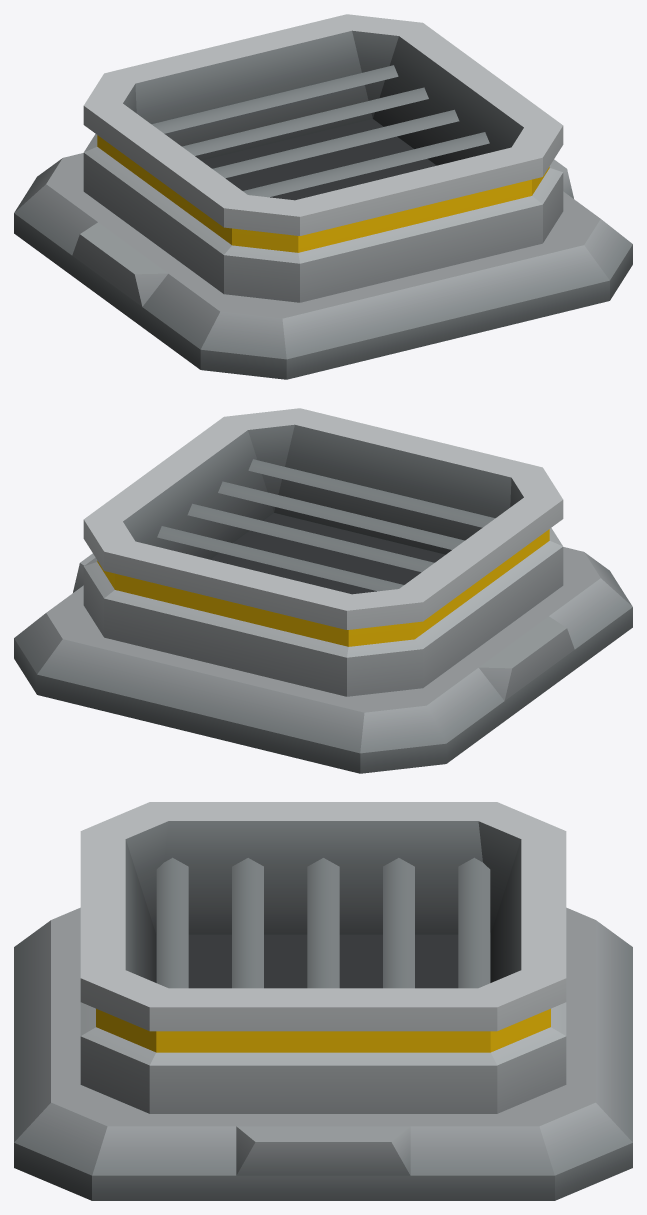
The model's file is Ventilation_001.fbx.
The picture shows the model from 3 angles, top to bottom: view 1: azimuth 30°, elevation 25°; view 2: azimuth 150°, elevation 25°; view 3: azimuth 270°, elevation 25°; orthographic projection. The views are drawn at different scales.
Parts seen in each view (by area): view 1: Ventilation_001; view 2: Ventilation_001; view 3: Ventilation_001.
Part boxes in pixels (<box>): Ventilation_001: <box>14,14,632,379</box>; Ventilation_001: <box>14,408,632,773</box>; Ventilation_001: <box>14,802,632,1200</box>.
Bounding box in the file's own units: 100 × 100 × 29.5.
